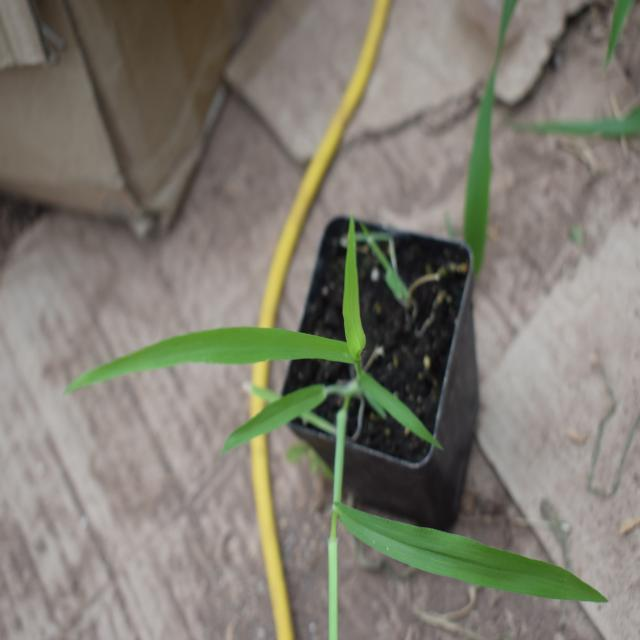crabgrass: (81, 248, 452, 477)
